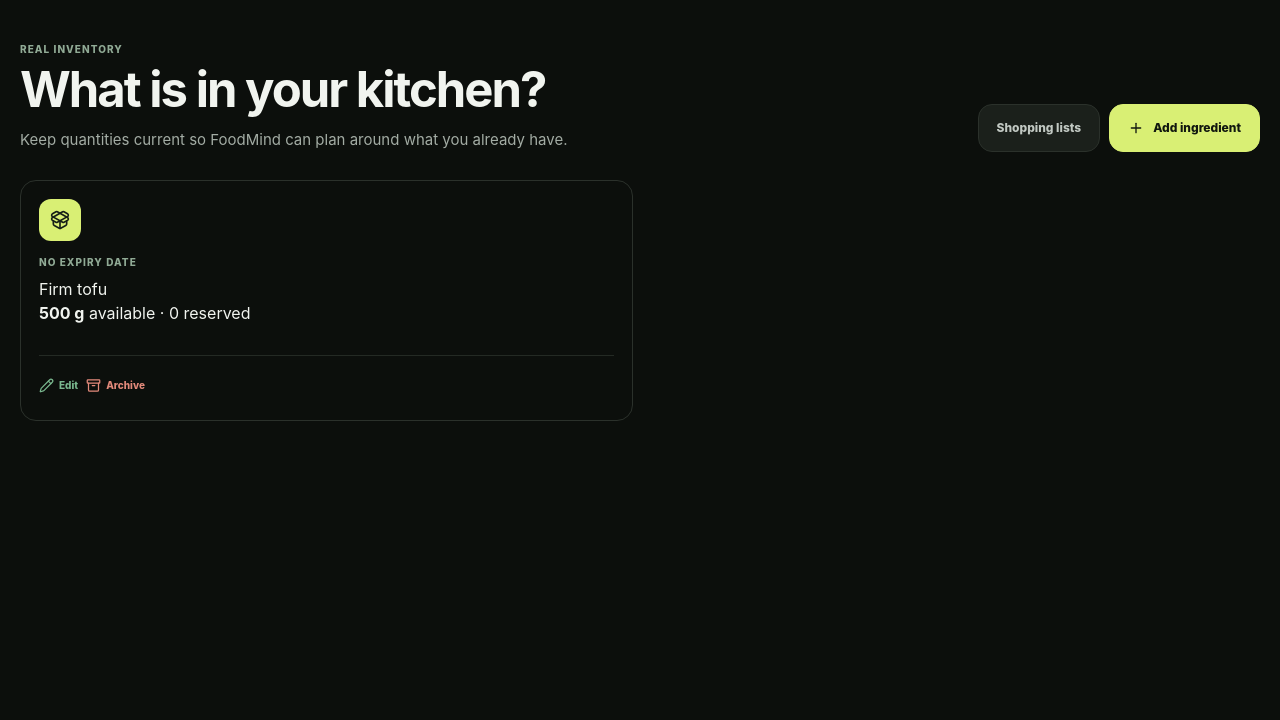
Test case: inventory expiry date › sends and immediately renders an edited expiry date
Expected: the text "No expiry date" is shown, [39,256,137,268]
Click the button "Edit" at (59, 385), box [39,368,78,402]
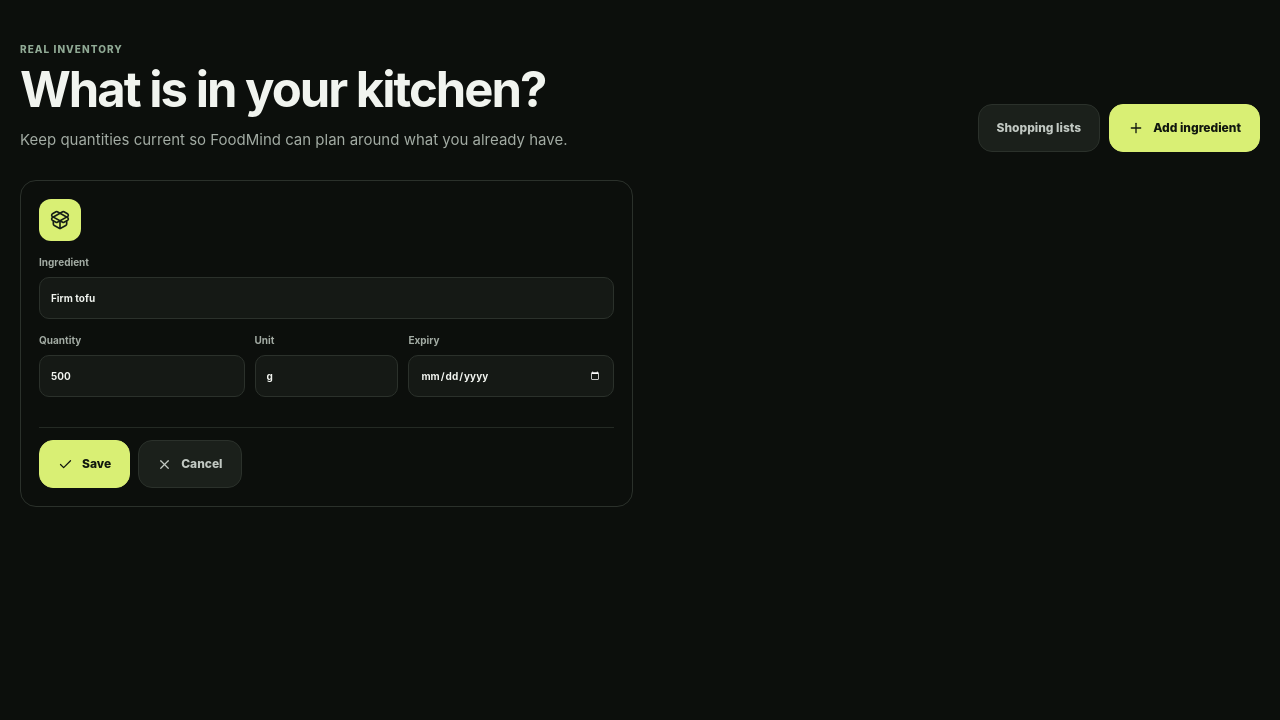
Replace the text in the number field labelled "Quantity" with "450" at (142, 376), box [39,355,244,397]
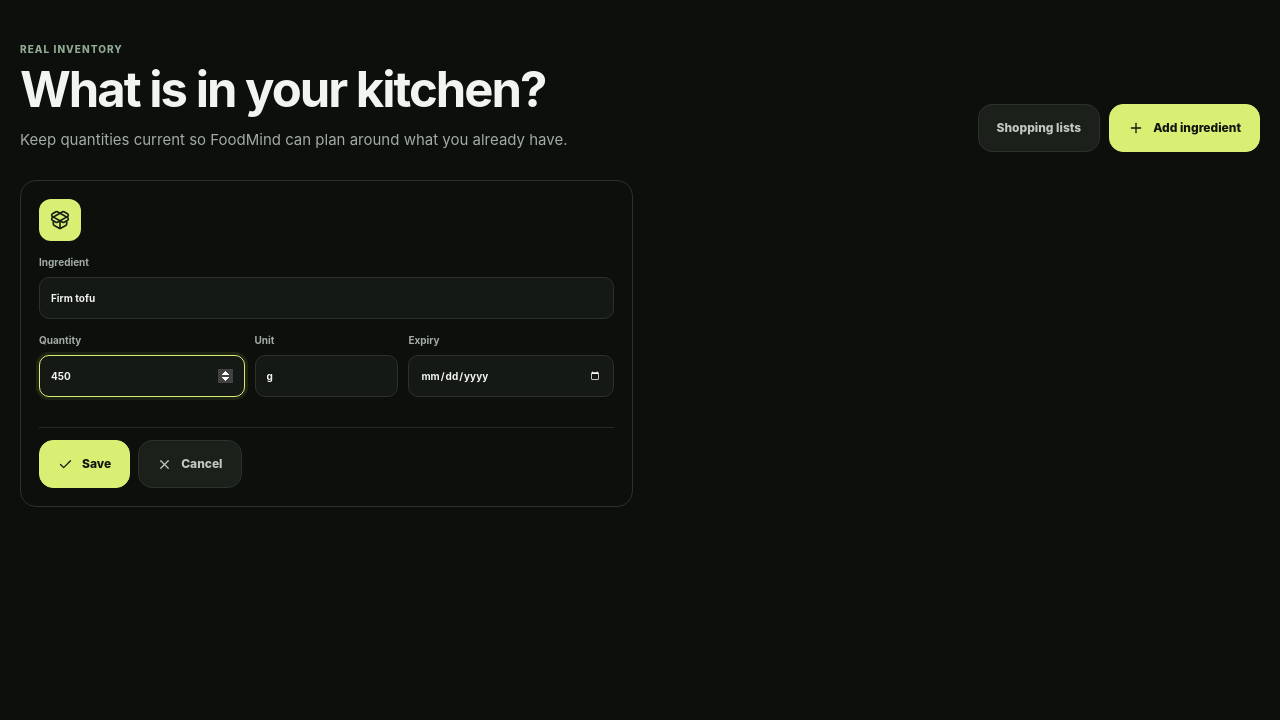
Type "2026-08-21" into the date field labelled "Expiry" at (511, 376), box [408,355,614,397]
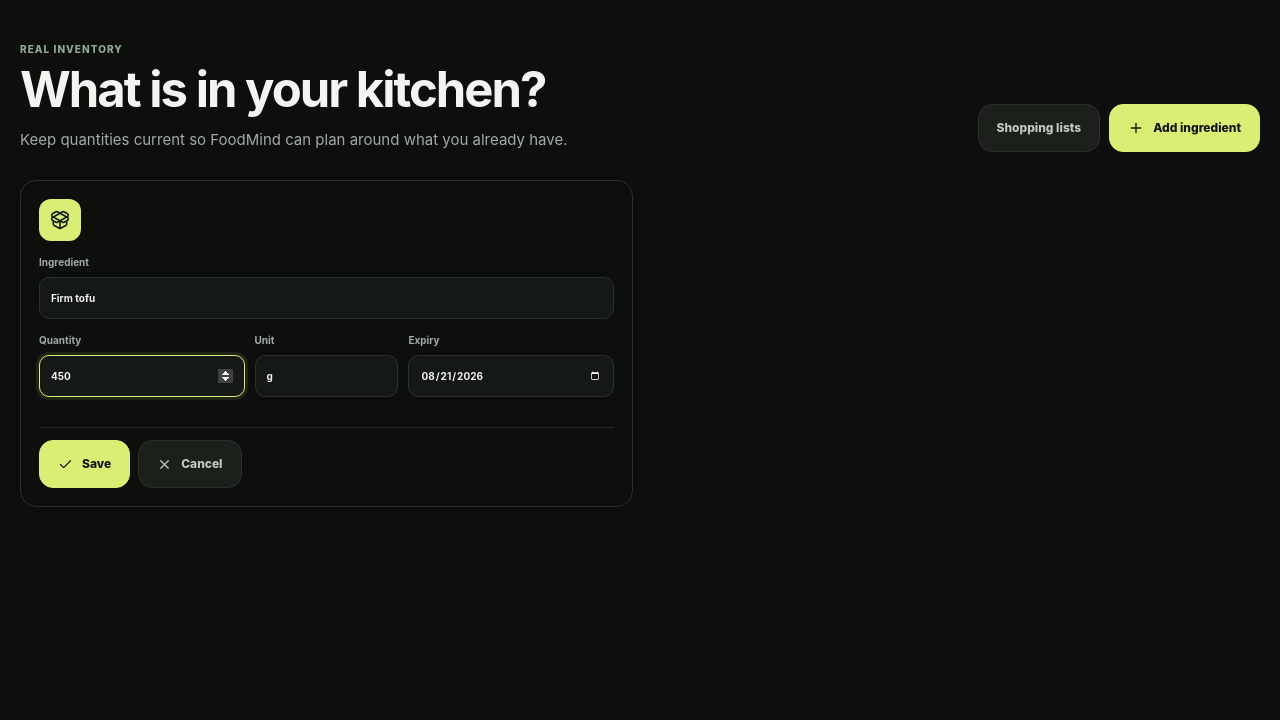
Click the button "Save" at (85, 464), box [39,440,130,488]
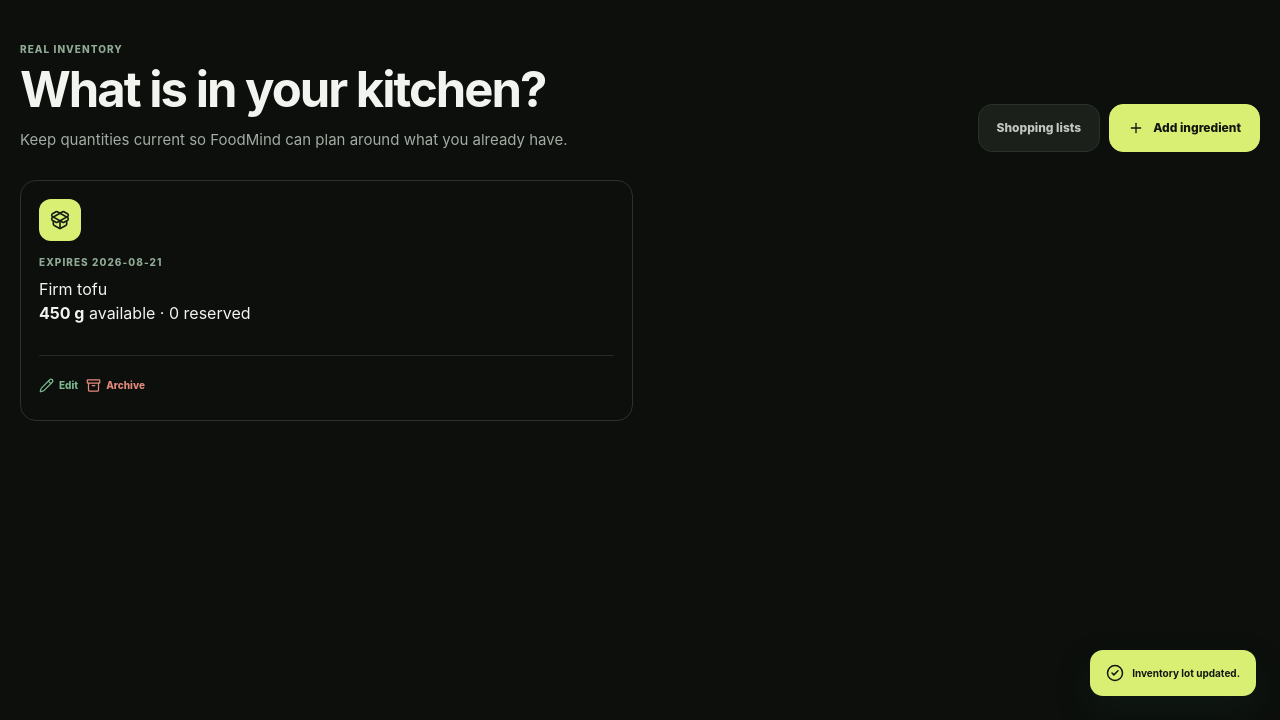
Expected: the text "Expires 2026-08-21" is shown, [39,256,162,268]
